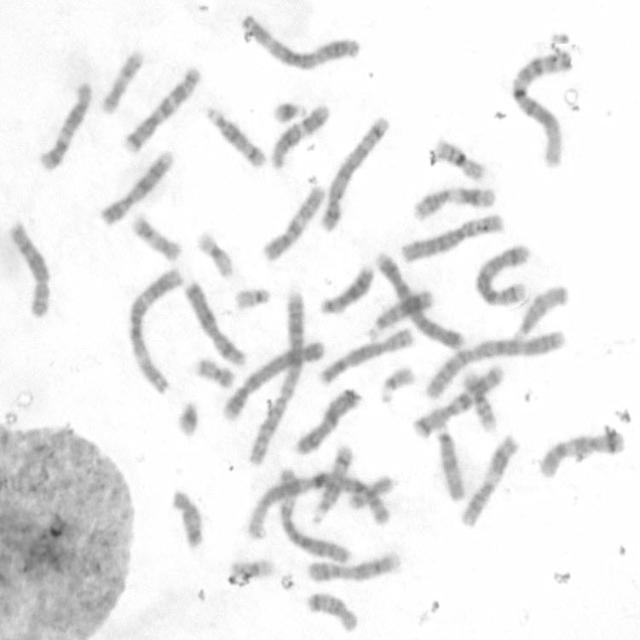A1: (241, 468, 394, 541), (507, 48, 576, 169)
A2: (244, 281, 306, 466), (419, 327, 567, 401)
A3: (124, 264, 184, 396), (238, 11, 361, 70)
B4: (371, 246, 468, 352), (218, 334, 326, 422)
B5: (316, 112, 391, 235), (471, 240, 533, 307)
C10: (258, 179, 328, 263), (536, 425, 626, 482)
C11: (456, 429, 522, 530), (410, 182, 498, 222)
C12: (35, 77, 93, 173), (266, 100, 332, 171)
C6: (273, 464, 353, 564), (398, 210, 504, 264)
C7: (409, 361, 506, 440), (120, 61, 201, 154)
C8: (317, 325, 416, 387), (6, 218, 52, 319)
C9: (96, 145, 176, 228), (304, 548, 403, 584)
D13: (363, 285, 435, 340), (316, 259, 376, 316)
D14: (201, 103, 268, 171), (309, 438, 356, 525)
D15: (511, 279, 570, 339), (432, 418, 469, 504)
E16: (432, 134, 488, 183), (460, 367, 500, 432)
E17: (98, 45, 146, 115), (128, 211, 182, 263)
E18: (304, 588, 361, 634), (168, 486, 205, 550)
F19: (193, 227, 236, 279), (227, 554, 277, 582)
F20: (345, 471, 396, 512), (193, 354, 236, 390)
G21: (172, 395, 201, 440), (270, 96, 308, 125)
G22: (376, 363, 416, 404), (231, 283, 271, 312)
X: (182, 275, 248, 368), (291, 383, 363, 457)
